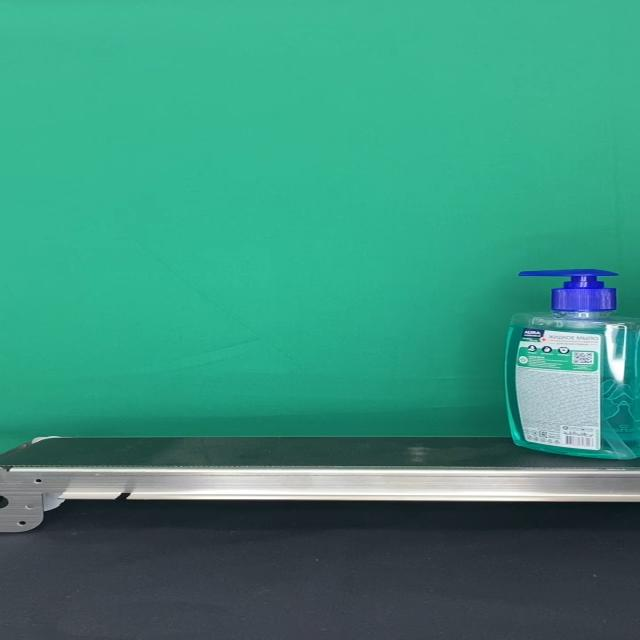Bottle: (504, 270, 640, 459)
Cap: (519, 270, 620, 312)
